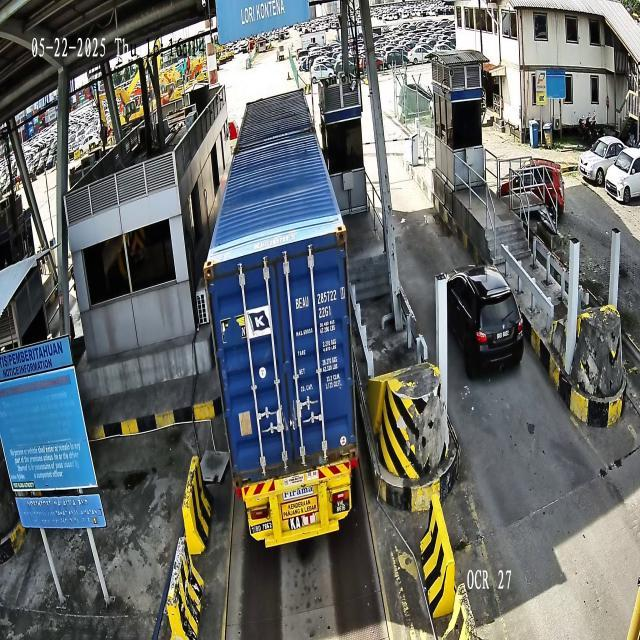ISO: (318, 305, 332, 319)
container_number: (294, 284, 346, 310)
